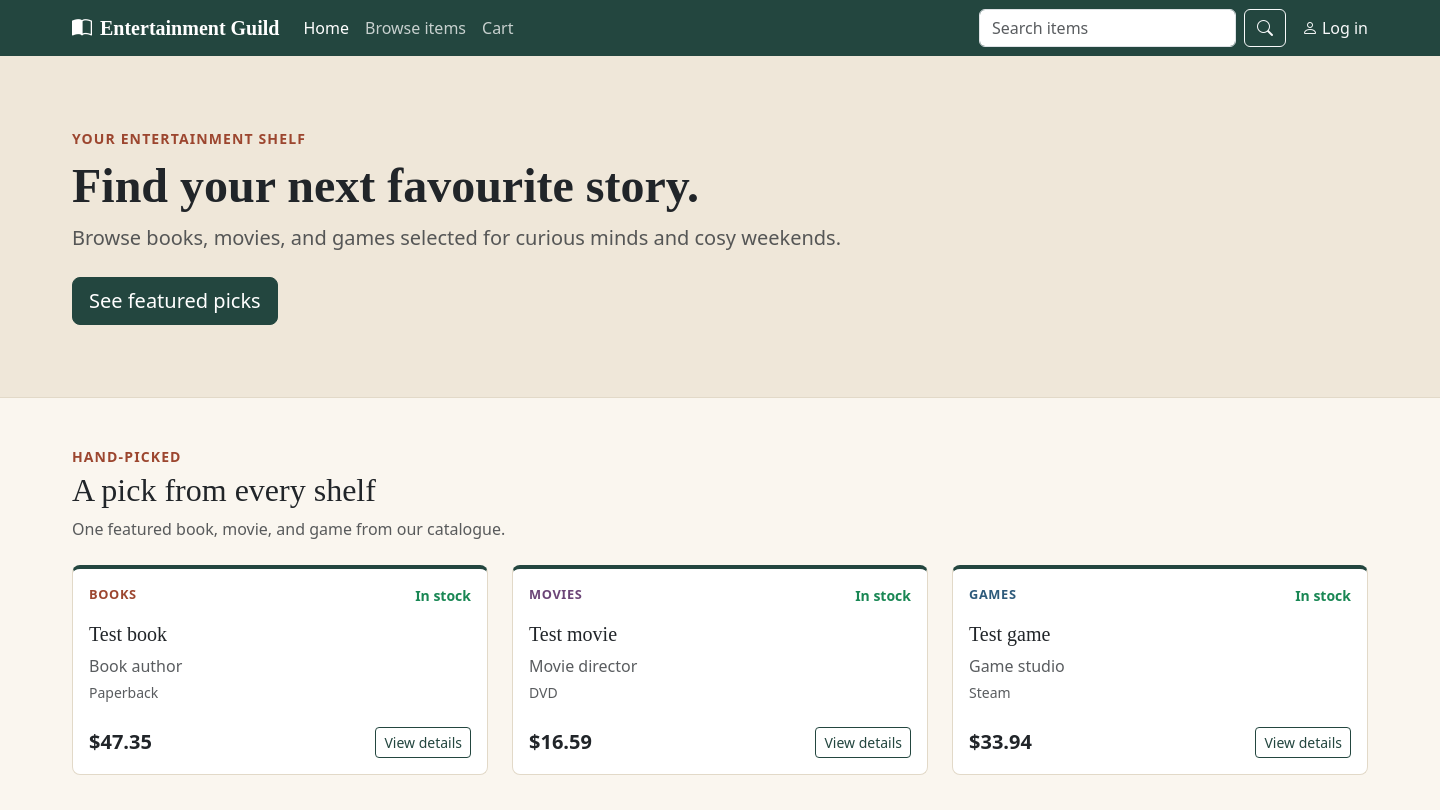
Scenario: renders one featured item from each genre with storefront navigation and footer
Expected: the link "Entertainment Guild" is shown, [72,17,280,39]
Expected: the search field labelled "Search items" is shown, [979,9,1236,47]
Click the link "View details" in the row of "47.35" at (423,742), box [375,727,471,758]
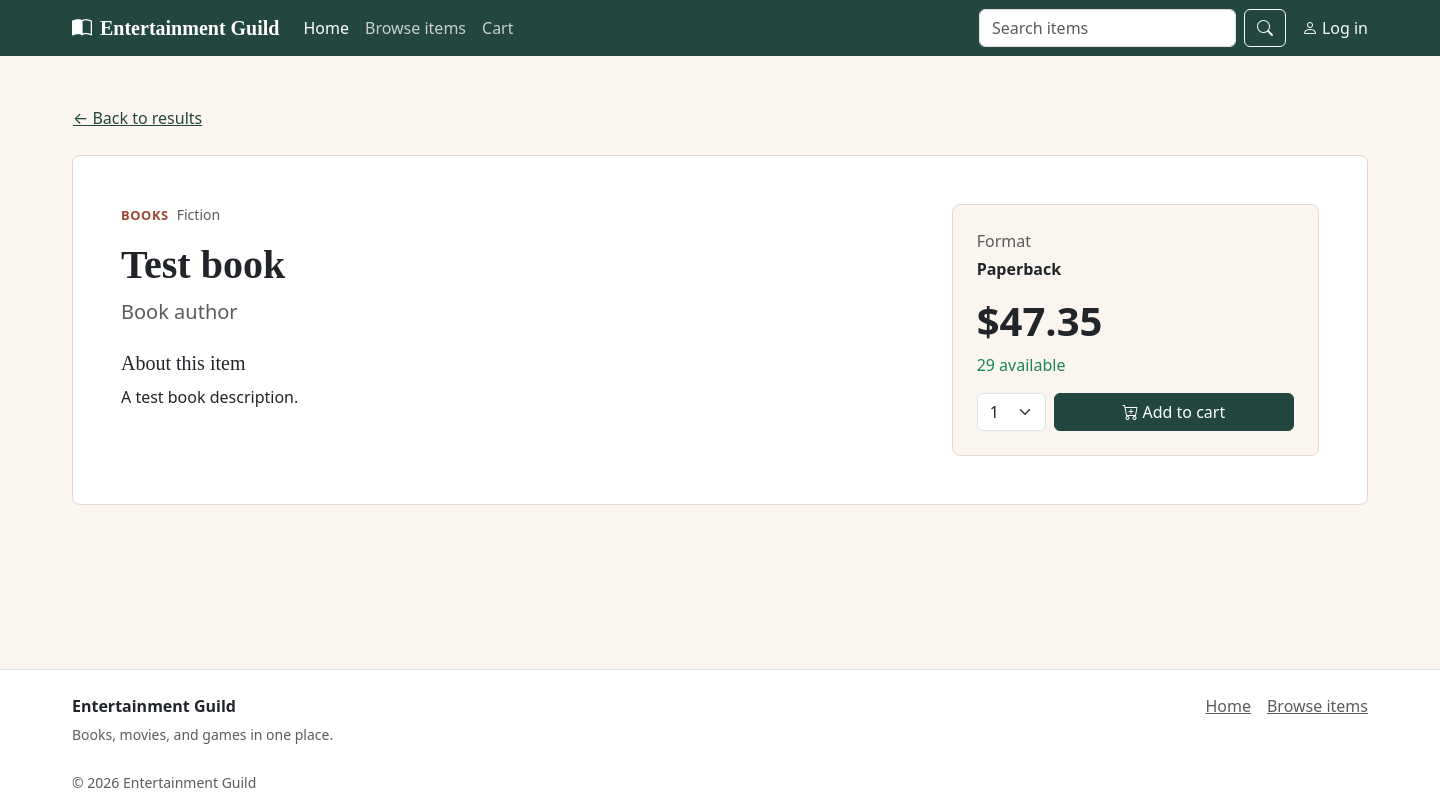
Result: the heading "Test book" is shown at [121,242,285,287]
Result: the text "A test book description." is shown at [121,386,298,408]
Result: the text "Fiction" is shown at [177,204,220,225]
